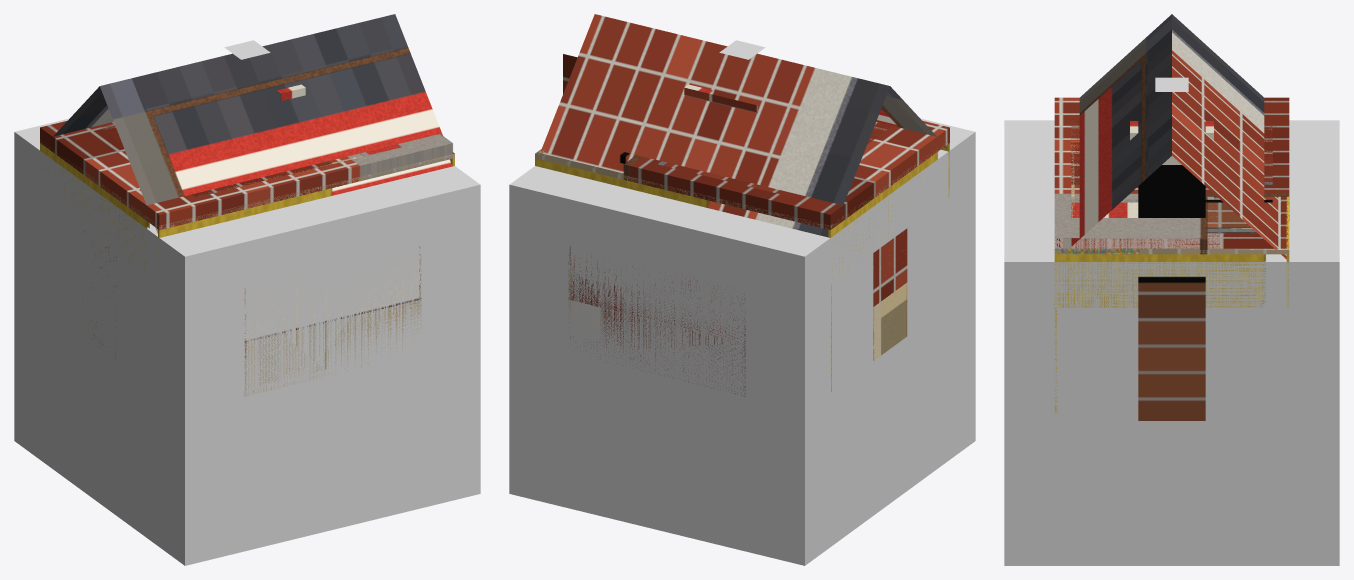
The model's file is laramie_fire_station.glb.
3 views of the same model, side by side, from view 1: azimuth 30°, elevation 25°; view 2: azimuth 150°, elevation 25°; view 3: azimuth 270°, elevation 25° (orthographic).
Visible parts, largest first — view 1: Cube, st_matthews_cathedral_roof_-1_xf, albany_courthouse_roof_xb, st_matthews_cathedral__wall_0_xb, st_matthews_cathedral_roof_-1_xb, albany_courthouse__wall_0_xb, albany_courthouse__wall_3_xb, albany_courthouse__cornice_0, st_matthews_cathedral_roof_1_xb, masonic_temple_roof_xb; view 2: Cube, st_matthews_cathedral_roof_1_xf, albany_courthouse_roof_xb, st_matthews_cathedral_roof_1_xb, st_matthews_cathedral__wall_9_xb, st_matthews_cathedral__wall_6_xb, albany_courthouse__wall_2_xb, st_matthews_cathedral__wall_9_xf, albany_courthouse__cornice_2, st_matthews_cathedral__wall_6_xf, st_matthews_cathedral_roof_-1_xb, albany_courthouse__wall_3_xb (+2 smaller); view 3: Cube, laramie_fire_station__hose_tower_xb, st_matthews_cathedral_roof_1_xf, albany_courthouse_roof_xb, st_matthews_cathedral_roof_-1_xf, albany_courthouse__wall_1_xb, st_matthews_cathedral_roof_-1_xb, masonic_temple_roof_xb, albany_courthouse__portico_xb, st_matthews_cathedral_roof_1_xb, albany_courthouse__cornice_1, masonic_temple_roof_xf (+1 smaller).
Boxes of the visible parts, bbox=[...] form: Cube: bbox=[14, 118, 480, 565]; st_matthews_cathedral_roof_-1_xf: bbox=[132, 14, 452, 195]; albany_courthouse_roof_xb: bbox=[40, 120, 452, 230]; st_matthews_cathedral__wall_0_xb: bbox=[244, 250, 421, 396]; st_matthews_cathedral_roof_-1_xb: bbox=[100, 47, 410, 233]; albany_courthouse__wall_0_xb: bbox=[158, 188, 332, 275]; albany_courthouse__wall_3_xb: bbox=[40, 143, 149, 272]; albany_courthouse__cornice_0: bbox=[159, 152, 454, 229]; st_matthews_cathedral_roof_1_xb: bbox=[53, 86, 108, 136]; masonic_temple_roof_xb: bbox=[98, 124, 331, 197]; Cube: bbox=[509, 118, 975, 565]; st_matthews_cathedral_roof_1_xf: bbox=[540, 14, 852, 228]; albany_courthouse_roof_xb: bbox=[624, 120, 949, 229]; st_matthews_cathedral_roof_1_xb: bbox=[792, 77, 889, 237]; st_matthews_cathedral__wall_9_xb: bbox=[873, 228, 907, 360]; st_matthews_cathedral__wall_6_xb: bbox=[568, 254, 745, 341]; albany_courthouse__wall_2_xb: bbox=[535, 158, 831, 391]; st_matthews_cathedral__wall_9_xf: bbox=[881, 283, 906, 354]; albany_courthouse__cornice_2: bbox=[535, 152, 832, 229]; st_matthews_cathedral__wall_6_xf: bbox=[601, 308, 745, 396]; st_matthews_cathedral_roof_-1_xb: bbox=[881, 86, 947, 148]; albany_courthouse__wall_3_xb: bbox=[828, 152, 937, 274]; Cube: bbox=[1004, 120, 1339, 565]; laramie_fire_station__hose_tower_xb: bbox=[1138, 165, 1205, 420]; st_matthews_cathedral_roof_1_xf: bbox=[1172, 32, 1286, 259]; albany_courthouse_roof_xb: bbox=[1054, 97, 1289, 254]; st_matthews_cathedral_roof_-1_xf: bbox=[1063, 30, 1171, 253]; albany_courthouse__wall_1_xb: bbox=[1054, 254, 1265, 307]; st_matthews_cathedral_roof_-1_xb: bbox=[1079, 14, 1171, 182]; masonic_temple_roof_xb: bbox=[1071, 119, 1272, 233]; albany_courthouse__portico_xb: bbox=[1054, 216, 1222, 253]; st_matthews_cathedral_roof_1_xb: bbox=[1172, 14, 1264, 115]; albany_courthouse__cornice_1: bbox=[1054, 248, 1289, 254]; masonic_temple_roof_xf: bbox=[1071, 199, 1272, 217].
Size of the model in its own units: 2.1 by 2.7 by 2.
Materials: 7 (6 with a texture image).
